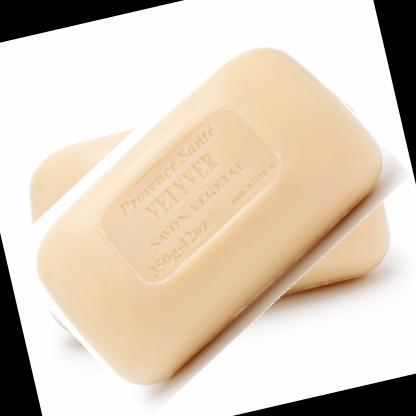soap: (0, 27, 415, 402)
